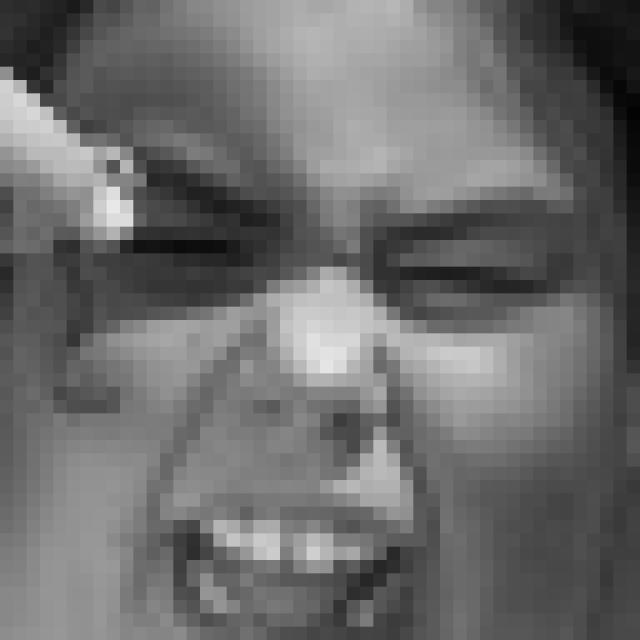disgust: (53, 121, 597, 640)
